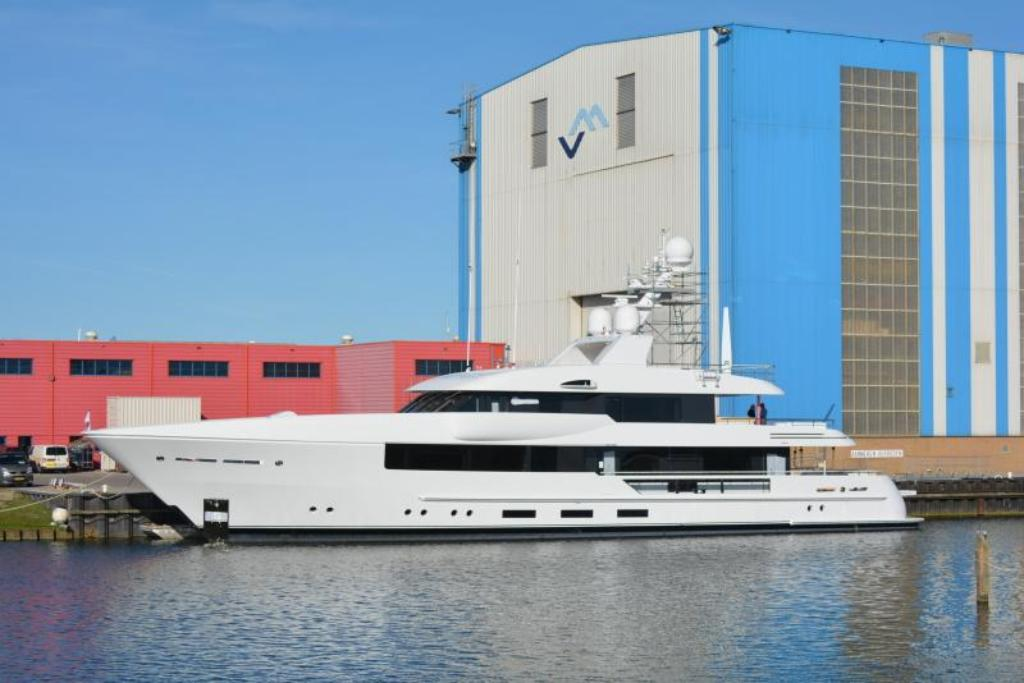PassengerShip: (74, 228, 930, 550)
